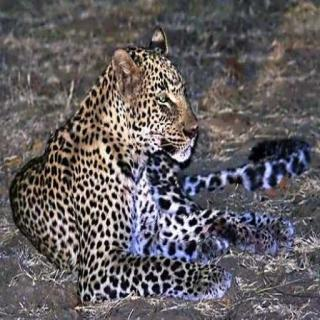Leopard: (31, 18, 222, 317)
